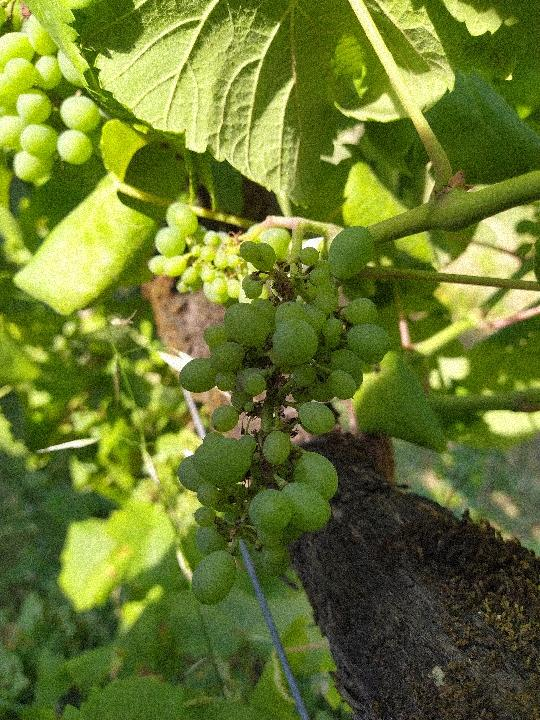grape: (172, 199, 394, 610), (143, 193, 247, 305)
